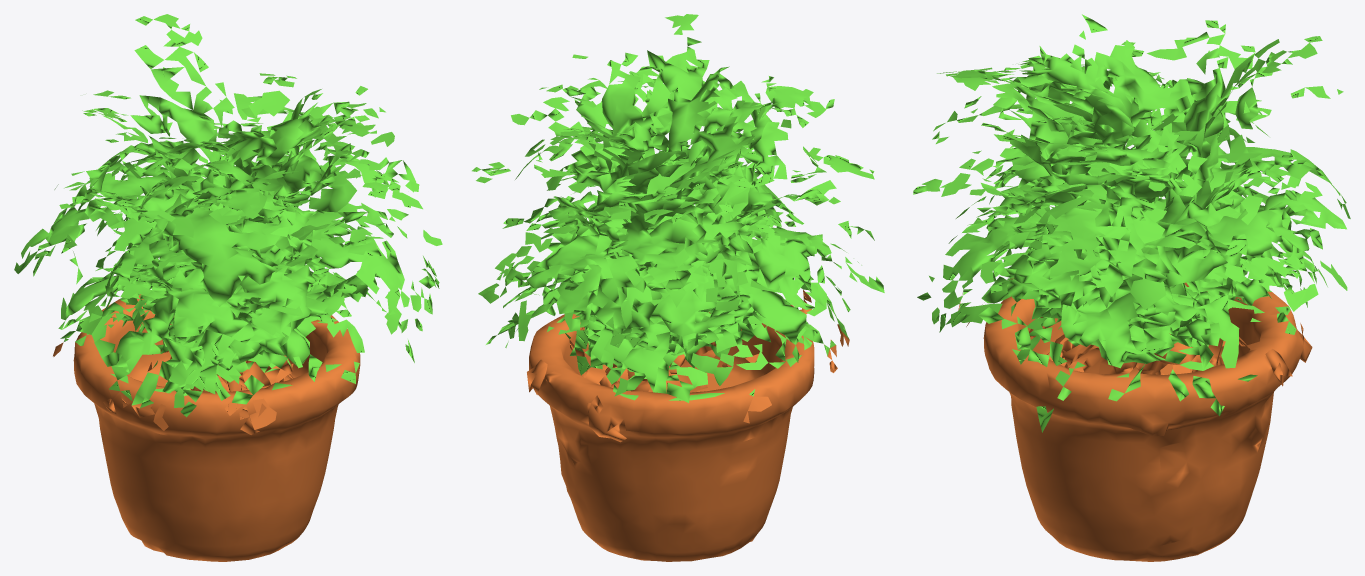
File: plante_3.glb
The picture shows the model from 3 angles, left to right: view 1: azimuth 30°, elevation 25°; view 2: azimuth 150°, elevation 25°; view 3: azimuth 270°, elevation 25°; orthographic projection. The views are drawn at different scales.
Visible parts, largest first — view 1: Mesh1; view 2: Mesh1; view 3: Mesh1.
Boxes of the visible parts, box(x1,y1,x2,y2) form: Mesh1: box(14, 14, 442, 561); Mesh1: box(472, 14, 884, 561); Mesh1: box(913, 14, 1350, 561).
Bounding box in the file's own units: 1.68 × 1.99 × 1.62.
